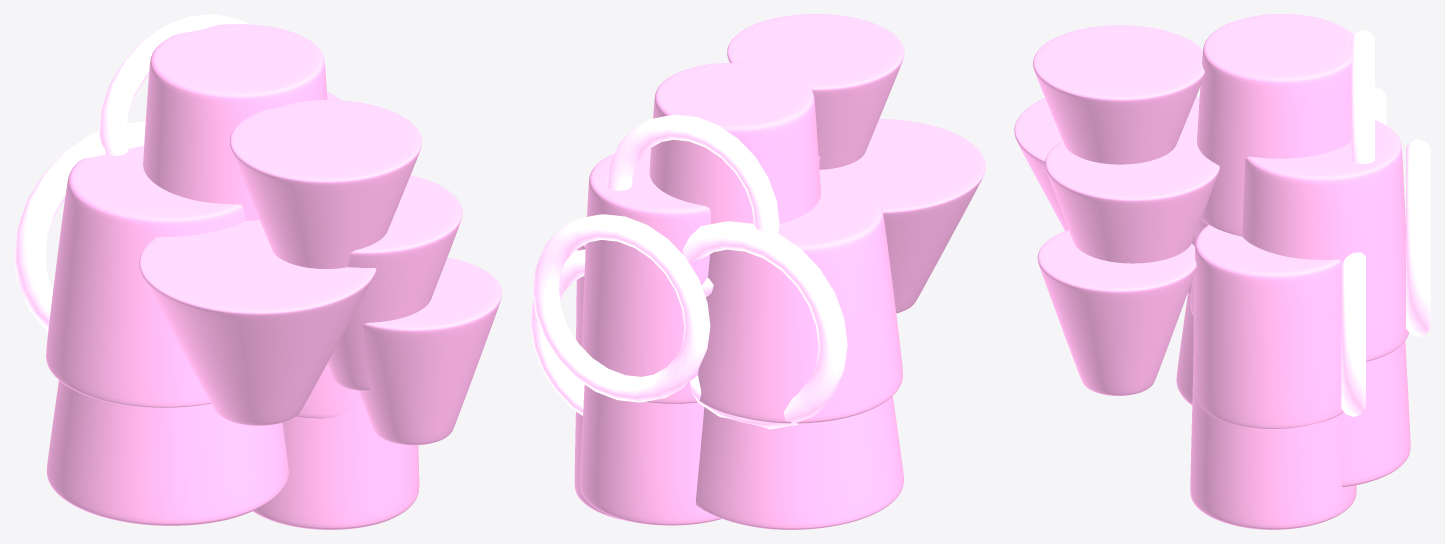
Rendered from coral-vase-magenta-01.glb.
3 views of the same model, side by side, from view 1: azimuth 30°, elevation 25°; view 2: azimuth 150°, elevation 25°; view 3: azimuth 270°, elevation 25° (orthographic). The views are drawn at different scales.
Visible parts, largest first — view 1: coral-vase-magenta-01.neck2, coral-vase-magenta-01.belly2, coral-vase-magenta-01.belly3, coral-vase-magenta-01.neck3, coral-vase-magenta-01.belly0, coral-vase-magenta-01.neck0, coral-vase-magenta-01.belly1, coral-vase-magenta-01.mouth2, coral-vase-magenta-01.mouth3; view 2: coral-vase-magenta-01.neck2, coral-vase-magenta-01.neck1, coral-vase-magenta-01.neck3, coral-vase-magenta-01.belly2, coral-vase-magenta-01.belly3, coral-vase-magenta-01.mouth1, coral-vase-magenta-01.mouth2, coral-vase-magenta-01.mouth3, coral-vase-magenta-01.mouth0, coral-vase-magenta-01.neck0; view 3: coral-vase-magenta-01.neck0, coral-vase-magenta-01.neck1, coral-vase-magenta-01.neck3, coral-vase-magenta-01.belly3, coral-vase-magenta-01.belly0, coral-vase-magenta-01.belly1, coral-vase-magenta-01.mouth1, coral-vase-magenta-01.mouth0, coral-vase-magenta-01.belly2, coral-vase-magenta-01.mouth3, coral-vase-magenta-01.neck2.
Part boxes in pixels (left/top/right/bottom): coral-vase-magenta-01.neck2: left=46, top=145, right=288, bottom=525; coral-vase-magenta-01.belly2: left=139, top=220, right=376, bottom=425; coral-vase-magenta-01.belly3: left=230, top=100, right=421, bottom=268; coral-vase-magenta-01.neck3: left=143, top=24, right=327, bottom=220; coral-vase-magenta-01.belly0: left=359, top=257, right=501, bottom=445; coral-vase-magenta-01.neck0: left=253, top=365, right=419, bottom=529; coral-vase-magenta-01.belly1: left=326, top=175, right=462, bottom=391; coral-vase-magenta-01.mouth2: left=14, top=121, right=145, bottom=330; coral-vase-magenta-01.mouth3: left=98, top=14, right=248, bottom=155; coral-vase-magenta-01.neck2: left=695, top=176, right=903, bottom=529; coral-vase-magenta-01.neck1: left=579, top=148, right=721, bottom=525; coral-vase-magenta-01.neck3: left=649, top=63, right=820, bottom=224; coral-vase-magenta-01.belly2: left=819, top=119, right=985, bottom=313; coral-vase-magenta-01.belly3: left=727, top=14, right=904, bottom=169; coral-vase-magenta-01.mouth1: left=532, top=214, right=710, bottom=402; coral-vase-magenta-01.mouth2: left=683, top=221, right=847, bottom=429; coral-vase-magenta-01.mouth3: left=606, top=114, right=779, bottom=296; coral-vase-magenta-01.mouth0: left=530, top=249, right=585, bottom=415; coral-vase-magenta-01.neck0: left=574, top=244, right=626, bottom=520; coral-vase-magenta-01.neck0: left=1190, top=225, right=1356, bottom=529; coral-vase-magenta-01.neck1: left=1242, top=120, right=1410, bottom=487; coral-vase-magenta-01.neck3: left=1190, top=14, right=1353, bottom=315; coral-vase-magenta-01.belly3: left=1033, top=25, right=1204, bottom=164; coral-vase-magenta-01.belly0: left=1037, top=230, right=1196, bottom=395; coral-vase-magenta-01.belly1: left=1045, top=132, right=1219, bottom=263; coral-vase-magenta-01.mouth1: left=1406, top=139, right=1430, bottom=336; coral-vase-magenta-01.mouth0: left=1341, top=252, right=1365, bottom=416; coral-vase-magenta-01.belly2: left=1014, top=96, right=1199, bottom=231; coral-vase-magenta-01.mouth3: left=1351, top=30, right=1374, bottom=163; coral-vase-magenta-01.neck2: left=1176, top=234, right=1195, bottom=405.
Bounding box in the file's own units: 0.8801 × 1.11 × 0.9935.
